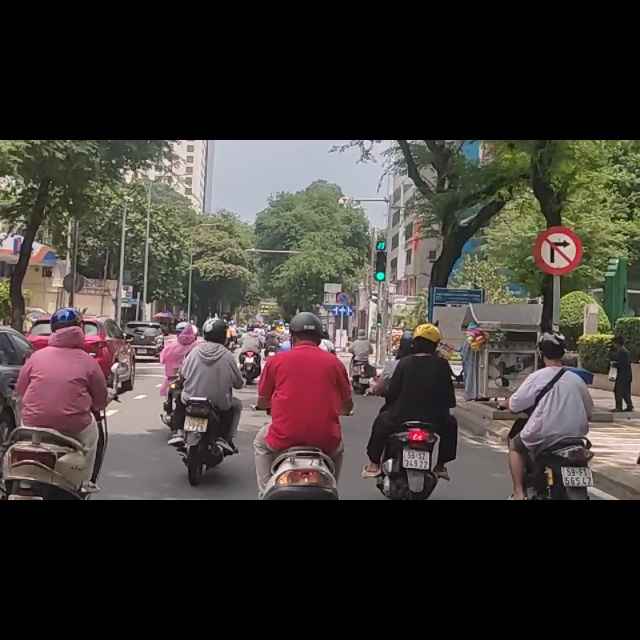bien_chi_dan: (536, 152, 583, 236), (337, 267, 353, 292)
